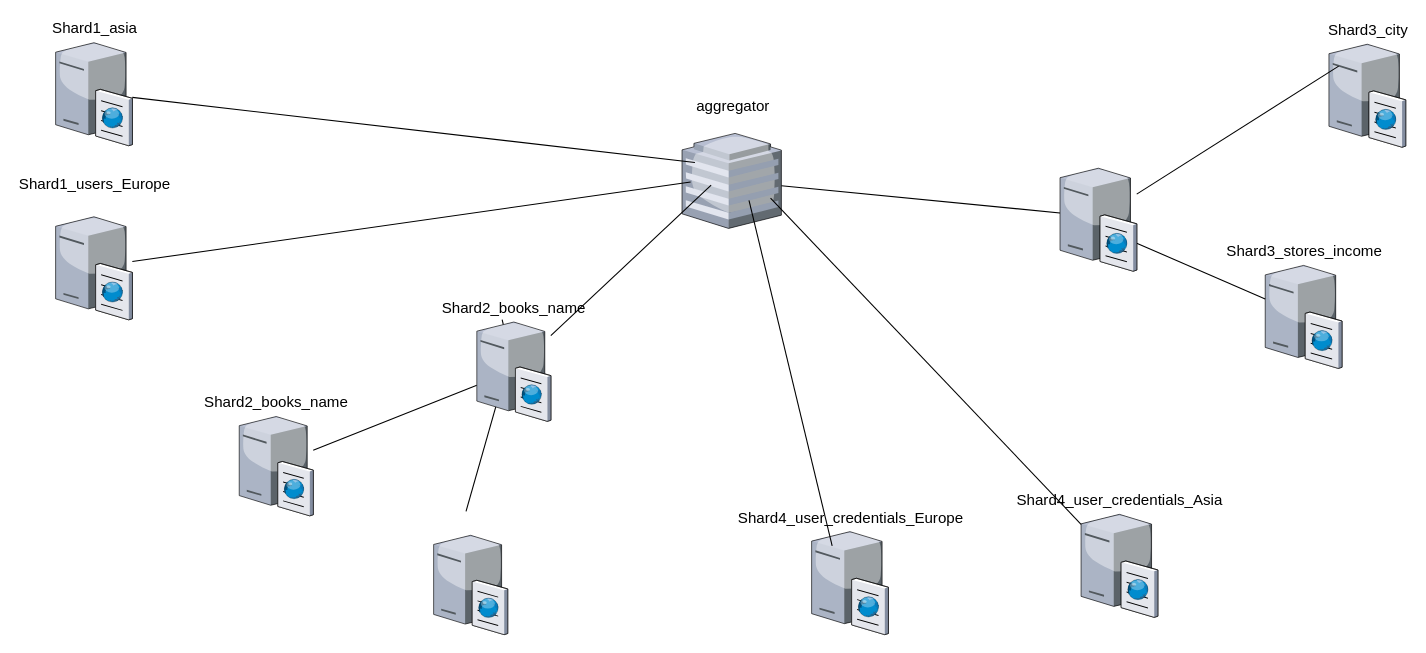
The diagram is 1426 pixels wide and 653 high, and some of its shapes have lost their labels. Each missing label, with the box of its shape:
Shard2_books_content: (433, 532, 507, 634)
Shard3_stores_Replica: (1059, 165, 1136, 271)
